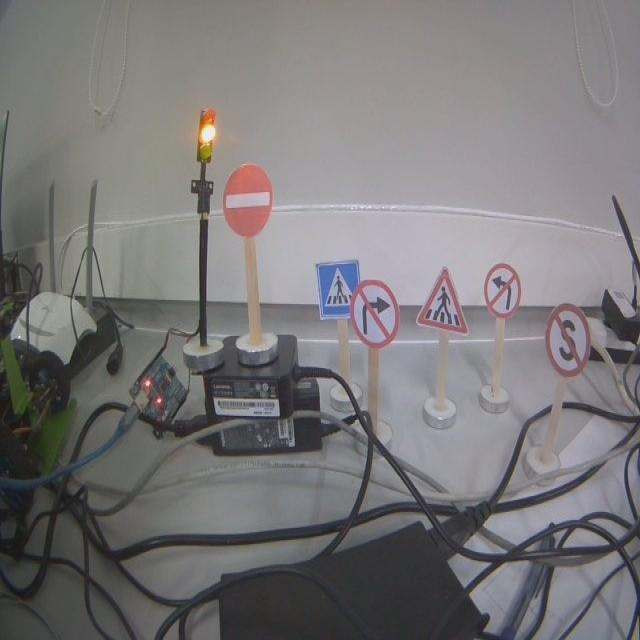Dilarang Belok Kanan: (350, 279, 400, 349)
Dilarang Belok Kiri: (484, 263, 522, 316)
Dilarang Masuk: (222, 164, 273, 239)
Lampu Kuning: (197, 108, 216, 161)
Rambu Berhenti: (544, 302, 591, 378)
Rambu Penyebrangan: (416, 268, 470, 336), (314, 259, 360, 320)
